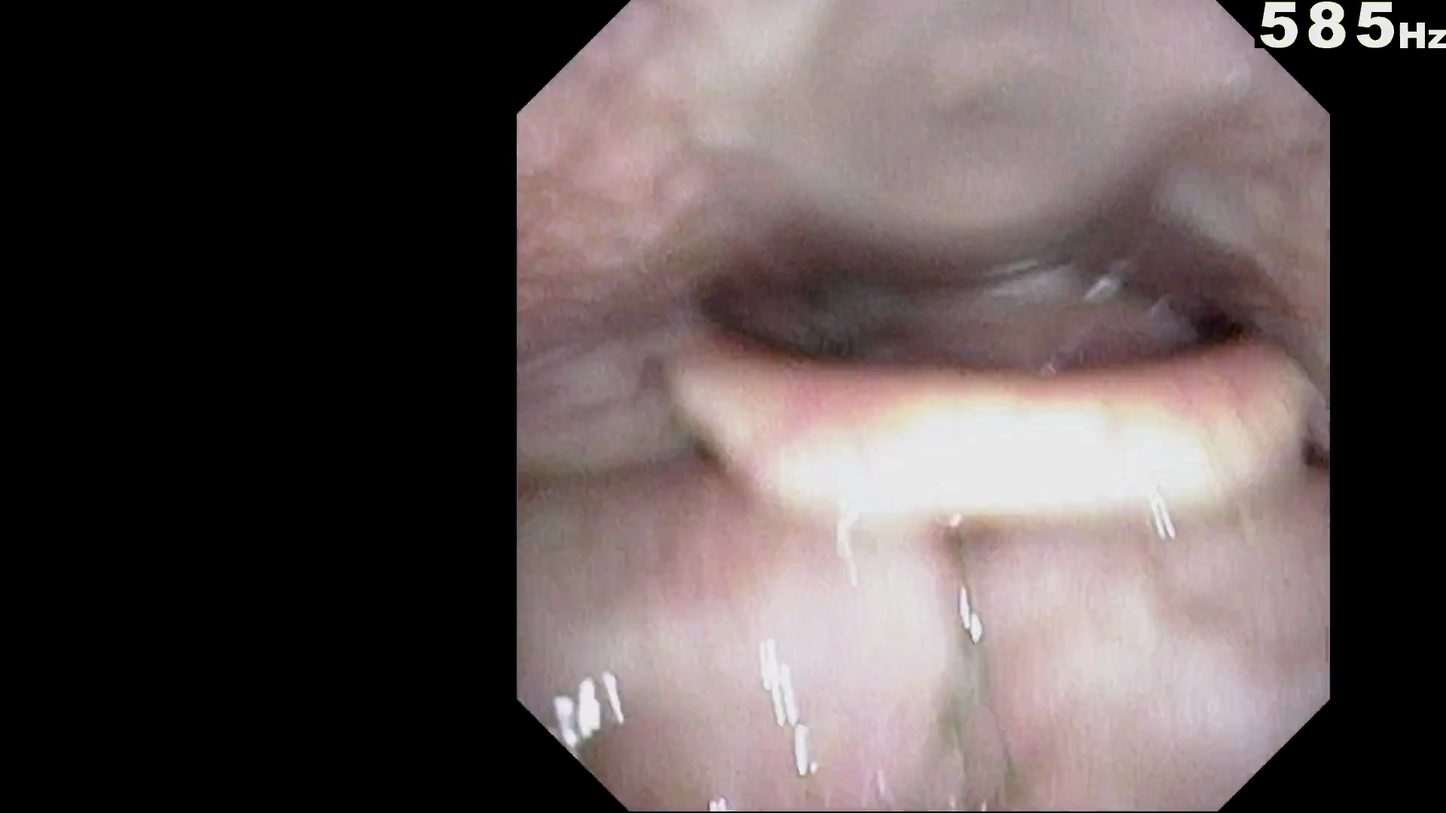epiglottis: (654, 345, 1327, 647)
